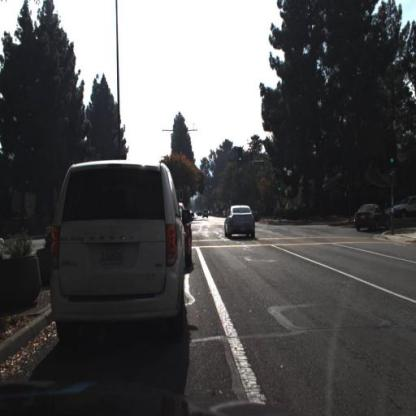car: (48, 158, 190, 347), (224, 203, 258, 245), (351, 198, 383, 240)
trafficLight-Green: (237, 149, 246, 170), (390, 144, 397, 163), (277, 177, 284, 192)
